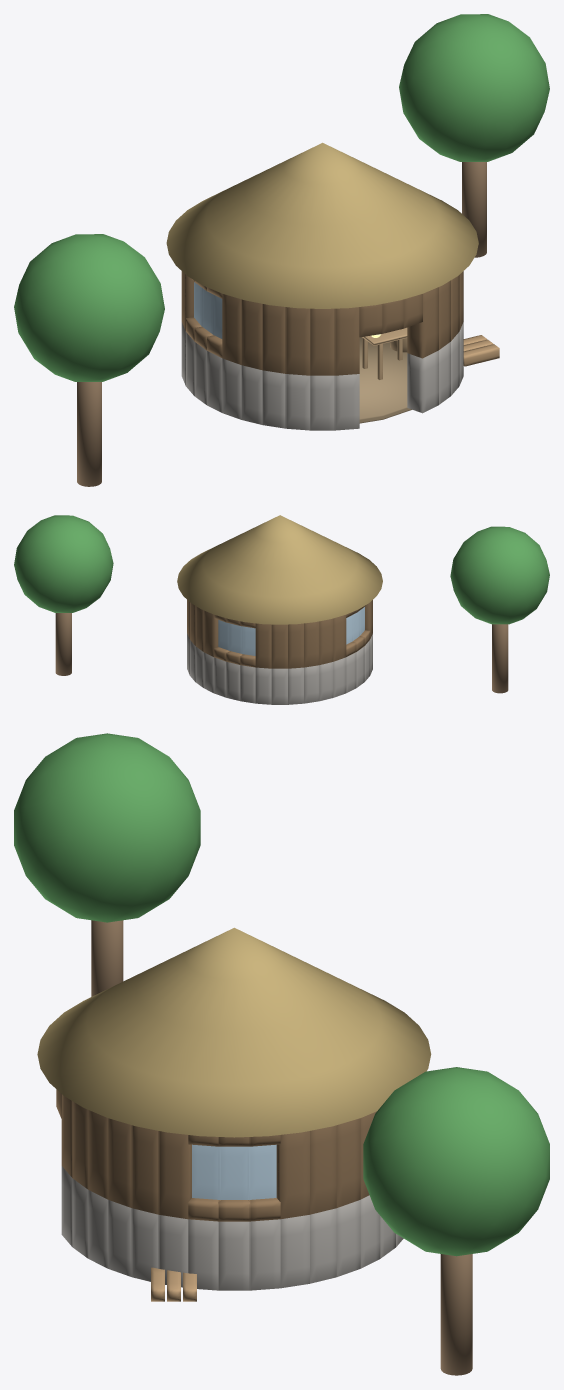
Rendered from cabana_5_redonda.glb.
3 renders of one model, top to bottom at view 1: azimuth 30°, elevation 25°; view 2: azimuth 150°, elevation 25°; view 3: azimuth 270°, elevation 25°, orthographic. The views are drawn at different scales.
Visible parts, largest first — view 1: Tejado, Arbol1_Copa, Arbol2_Copa, Madera (×9), Piedra (×10), Suelo, Arbol1_Tronco, Dintel (×3), Arbol2_Tronco, Leña; view 2: Tejado, Arbol1_Copa, Arbol2_Copa, Piedra (×14), Madera (×8), Arbol1_Tronco, Cristal (×3), Arbol2_Tronco; view 3: Tejado, Arbol1_Copa, Arbol2_Copa, Piedra (×13), Madera (×9), Cristal (×3), Arbol2_Tronco, Arbol1_Tronco.
Boxes of the visible parts, left/top/right/bottom form: Tejado: left=166, top=142, right=478, bottom=308; Arbol1_Copa: left=14, top=234, right=164, bottom=381; Arbol2_Copa: left=399, top=14, right=549, bottom=161; Madera (×9): left=181, top=271, right=450, bottom=375; Piedra (×10): left=194, top=342, right=450, bottom=430; Suelo: left=359, top=337, right=411, bottom=423; Arbol1_Tronco: left=77, top=382, right=101, bottom=486; Dintel (×3): left=359, top=294, right=422, bottom=337; Arbol2_Tronco: left=462, top=162, right=486, bottom=257; Leña: left=463, top=344, right=499, bottom=366; Tejado: left=177, top=515, right=382, bottom=624; Arbol1_Copa: left=450, top=526, right=549, bottom=624; Arbol2_Copa: left=14, top=515, right=113, bottom=612; Piedra (×14): left=195, top=640, right=370, bottom=704; Madera (×8): left=195, top=606, right=346, bottom=668; Arbol1_Tronco: left=492, top=624, right=508, bottom=693; Cristal (×3): left=218, top=620, right=255, bottom=655; Arbol2_Tronco: left=55, top=613, right=71, bottom=675; Tejado: left=37, top=927, right=431, bottom=1137; Arbol1_Copa: left=14, top=733, right=200, bottom=922; Arbol2_Copa: left=363, top=1067, right=549, bottom=1256; Piedra (×13): left=61, top=1166, right=380, bottom=1290; Madera (×9): left=61, top=1094, right=360, bottom=1219; Cristal (×3): left=192, top=1144, right=276, bottom=1199; Arbol2_Tronco: left=440, top=1254, right=472, bottom=1375; Arbol1_Tronco: left=91, top=920, right=123, bottom=996.
Size of what is drawn, in the model's own units: 0.971 by 0.3425 by 0.5485.
